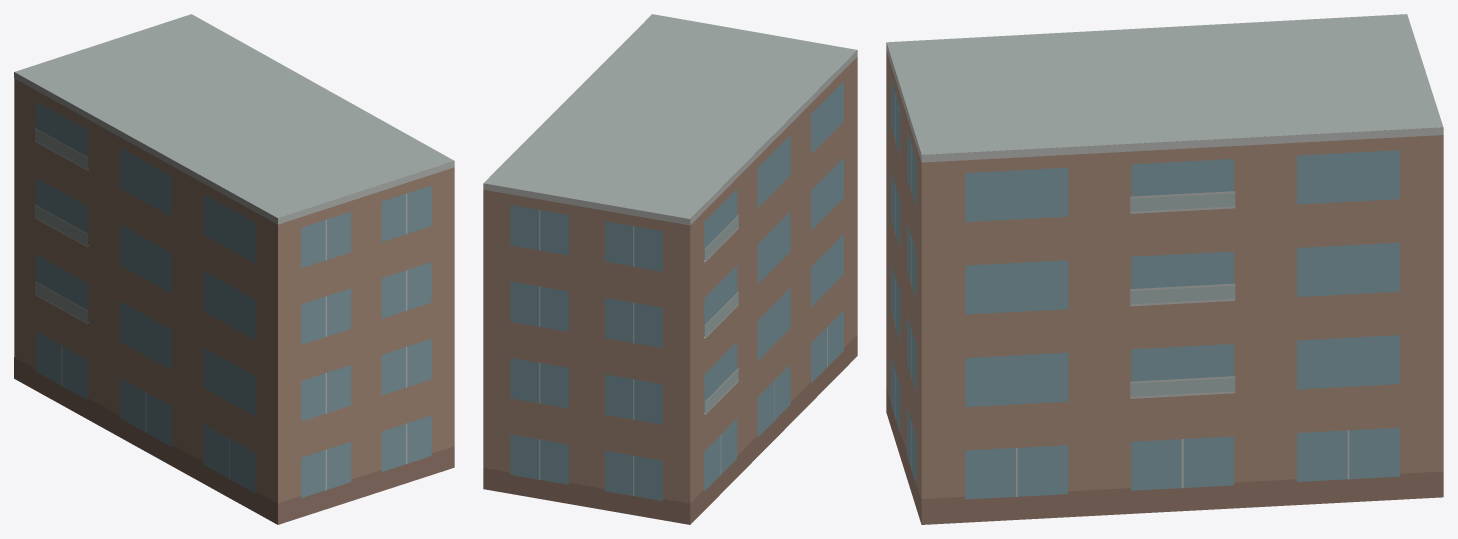
Rendered from survey-upis-32628598.glb.
3 renders of one model, left to right at view 1: azimuth 30°, elevation 25°; view 2: azimuth 150°, elevation 25°; view 3: azimuth 270°, elevation 25°, orthographic. The views are drawn at different scales.
Visible parts, largest first — view 1: survey-upis-32628598.tmp; view 2: survey-upis-32628598.tmp; view 3: survey-upis-32628598.tmp.
Part boxes in pixels (left/top/right/bottom): survey-upis-32628598.tmp: left=14, top=14, right=454, bottom=524; survey-upis-32628598.tmp: left=483, top=14, right=857, bottom=524; survey-upis-32628598.tmp: left=886, top=14, right=1443, bottom=524.
Bounding box in the file's own units: 9.56 × 11.7 × 15.98.
